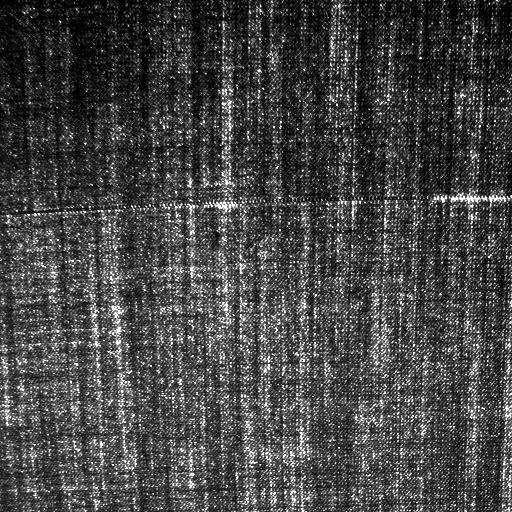fabric_broken_pick: (72, 165, 506, 211)
